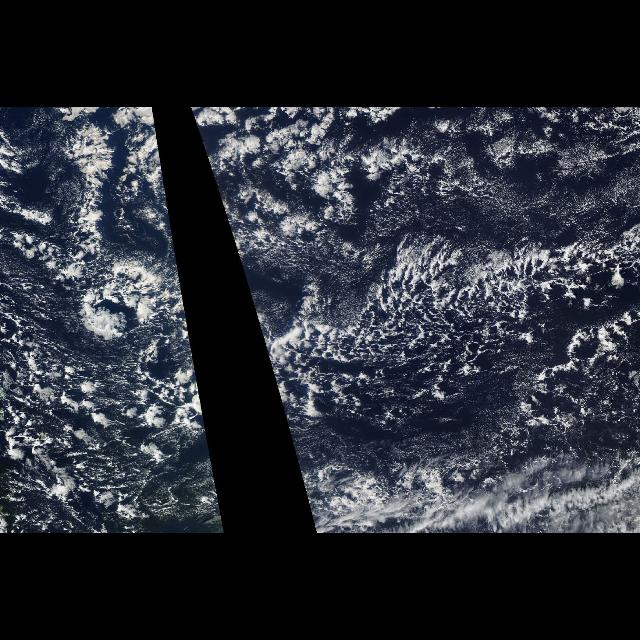Fish: (309, 444, 636, 528)
Gravel: (270, 224, 636, 452), (0, 288, 196, 522)
Sugar: (365, 111, 639, 237)
